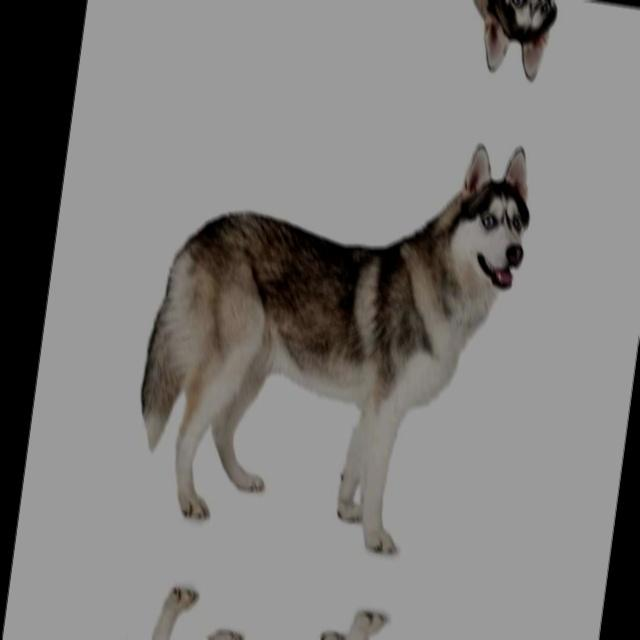dog: (144, 88, 604, 567), (205, 0, 622, 101), (121, 588, 536, 640)
